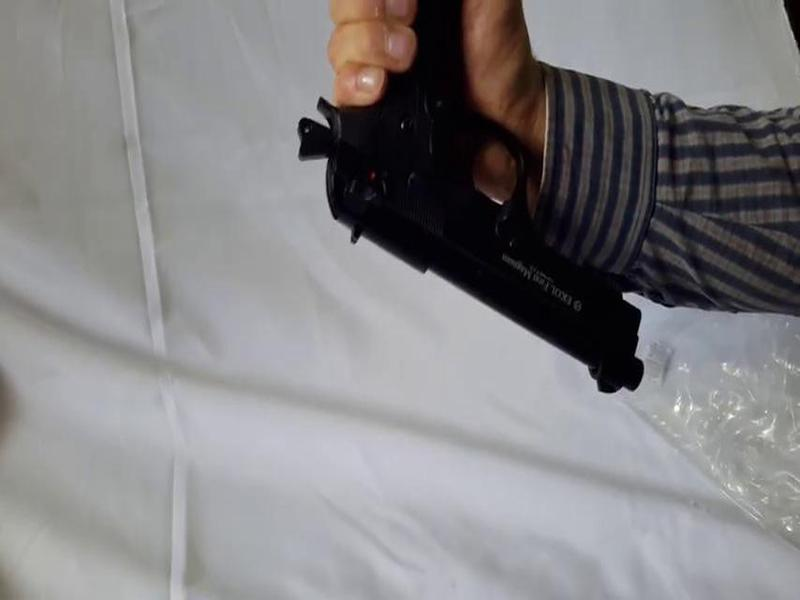Pistola: (270, 1, 661, 406)
